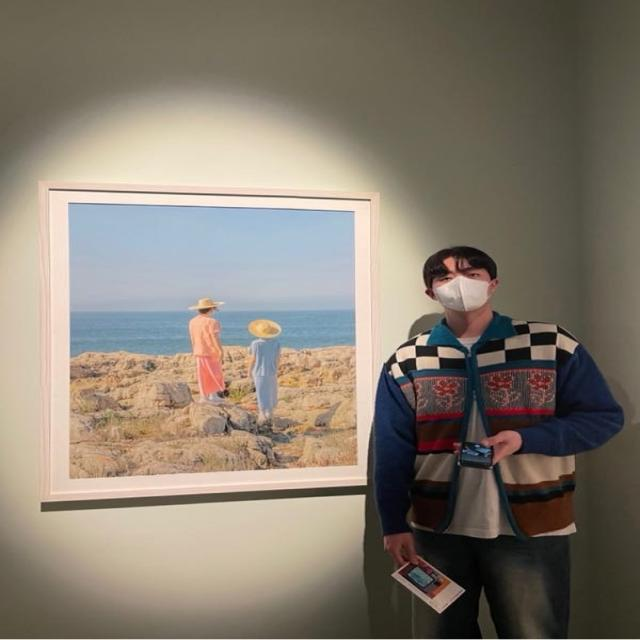cardigan: (366, 311, 622, 540)
denimpants: (410, 524, 578, 640)
